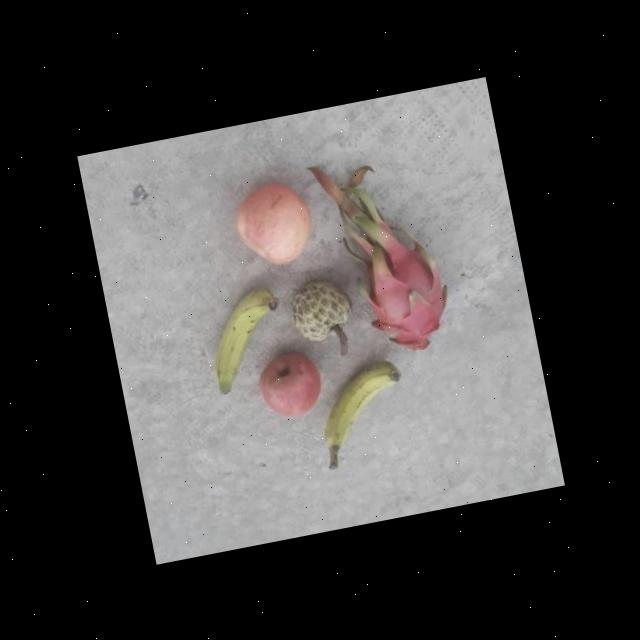Sakya fruit: (287, 274, 358, 344)
apple: (230, 174, 324, 274), (238, 352, 324, 426)
banana: (195, 276, 292, 399), (310, 356, 416, 458)
pitaya: (364, 247, 458, 359)
